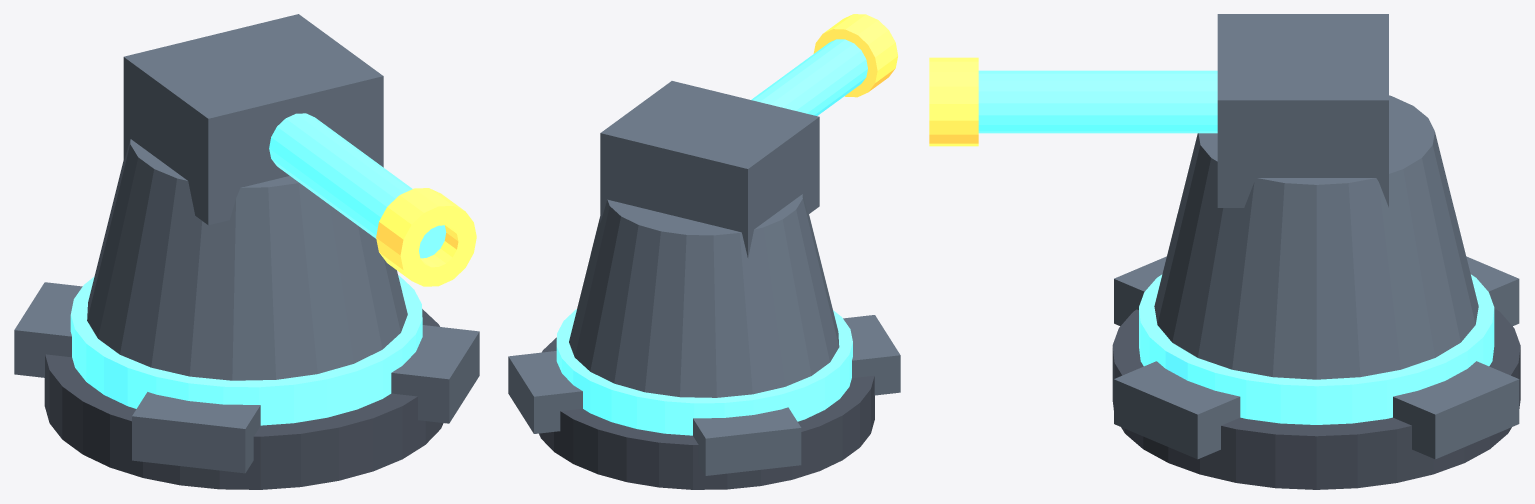
The model's file is AXM-TURRET-001_LOD1.glb.
The picture shows the model from 3 angles, left to right: view 1: azimuth 30°, elevation 25°; view 2: azimuth 150°, elevation 25°; view 3: azimuth 270°, elevation 25°; orthographic projection. The views are drawn at different scales.
Visible parts, largest first — view 1: body, head, base, rotation_ring, barrel, stabilizer__r02, muzzle, stabilizer__r03, stabilizer__r01; view 2: body, head, base, rotation_ring, stabilizer__r01, barrel, stabilizer__r00, muzzle, stabilizer__r02; view 3: body, head, base, barrel, rotation_ring, stabilizer__r00, stabilizer__r03, muzzle, stabilizer__r01, stabilizer__r02.
Boxes of the visible parts, x1,y1,x2,y2 form: body: (87,139,407,380); head: (123,14,383,225); base: (44,309,443,489); rotation_ring: (70,275,422,425); barrel: (269,113,446,258); stabilizer__r02: (132,392,260,473); muzzle: (376,188,476,286); stabilizer__r03: (391,325,479,423); stabilizer__r01: (14,282,82,377); body: (569,194,839,397); head: (600,81,819,258); base: (539,337,874,489); rotation_ring: (556,309,852,435); stabilizer__r01: (693,407,801,475); barrel: (751,39,867,115); stabilizer__r00: (508,351,582,433); muzzle: (813,14,897,97); stabilizer__r02: (843,315,900,395); body: (1154,95,1478,379); head: (1217,14,1388,207); base: (1112,309,1520,489); barrel: (978,70,1217,133); rotation_ring: (1139,274,1494,424); stabilizer__r00: (1393,361,1519,459); stabilizer__r03: (1114,361,1240,459); muzzle: (929,57,978,146); stabilizer__r01: (1466,256,1519,325); stabilizer__r02: (1114,256,1166,326).
Bounding box in the file's own units: 1.24 × 1.16 × 1.79.
